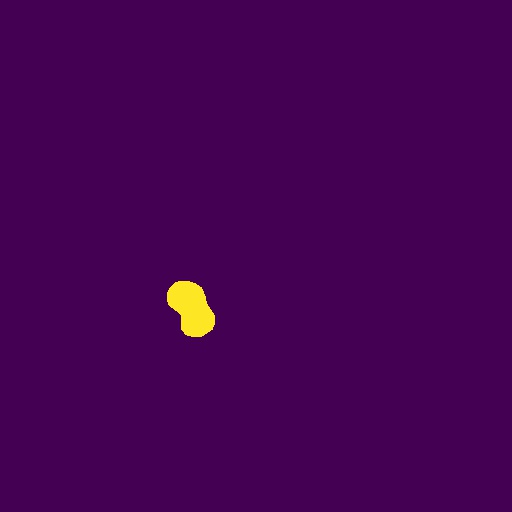Pituirity_tumour: (167, 281, 215, 337)
